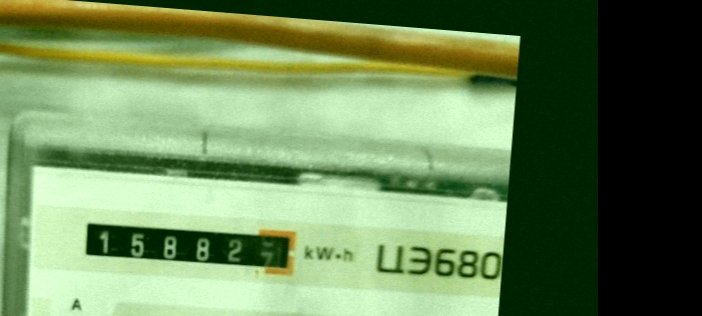1: (95, 227, 111, 253)
2: (225, 235, 242, 260)
5: (127, 228, 145, 256)
7: (258, 246, 273, 266)
8: (160, 232, 178, 259), (193, 234, 210, 260)
screen: (68, 204, 305, 285)
